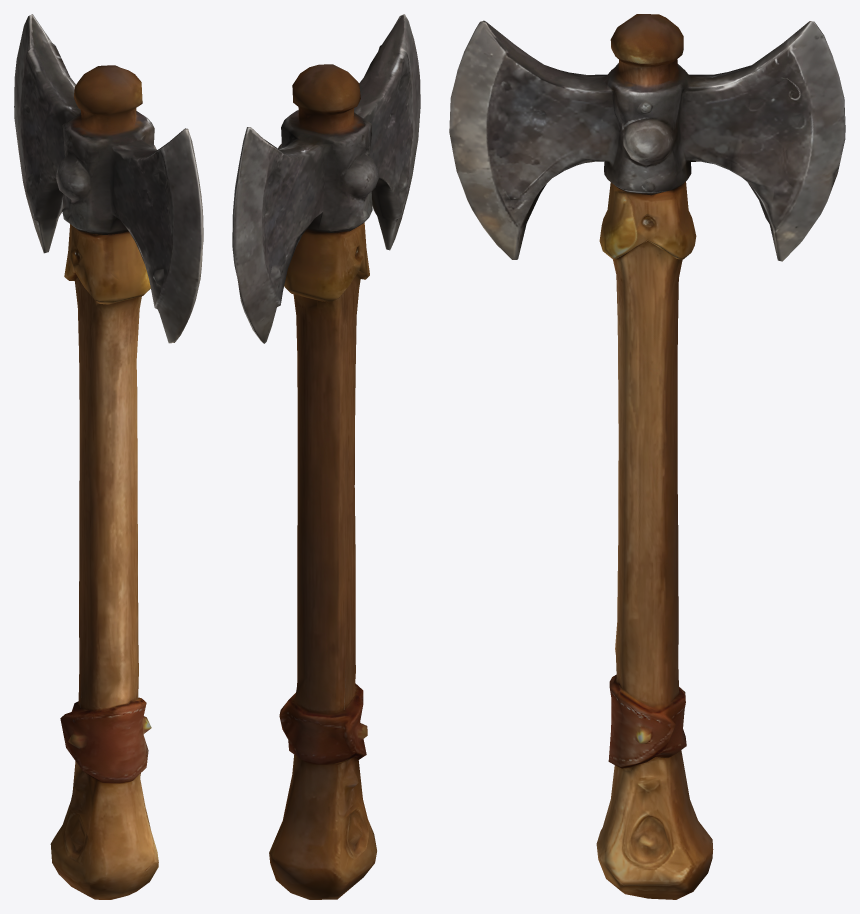
Rendered from machado-batalha.glb.
The picture shows the model from 3 angles, left to right: view 1: azimuth 30°, elevation 25°; view 2: azimuth 150°, elevation 25°; view 3: azimuth 270°, elevation 25°; orthographic projection. The views are drawn at different scales.
Parts seen in each view (by area): view 1: tripo_node_4a1efe49-f804-4bf4-937e-389cb8686051; view 2: tripo_node_4a1efe49-f804-4bf4-937e-389cb8686051; view 3: tripo_node_4a1efe49-f804-4bf4-937e-389cb8686051.
Boxes of the visible parts, bbox=[...] form: tripo_node_4a1efe49-f804-4bf4-937e-389cb8686051: bbox=[14, 14, 203, 899]; tripo_node_4a1efe49-f804-4bf4-937e-389cb8686051: bbox=[232, 14, 420, 899]; tripo_node_4a1efe49-f804-4bf4-937e-389cb8686051: bbox=[449, 14, 845, 899].
Bounding box in the file's own units: 0.1017 × 0.82 × 0.337.
1 material, 1 textured.
